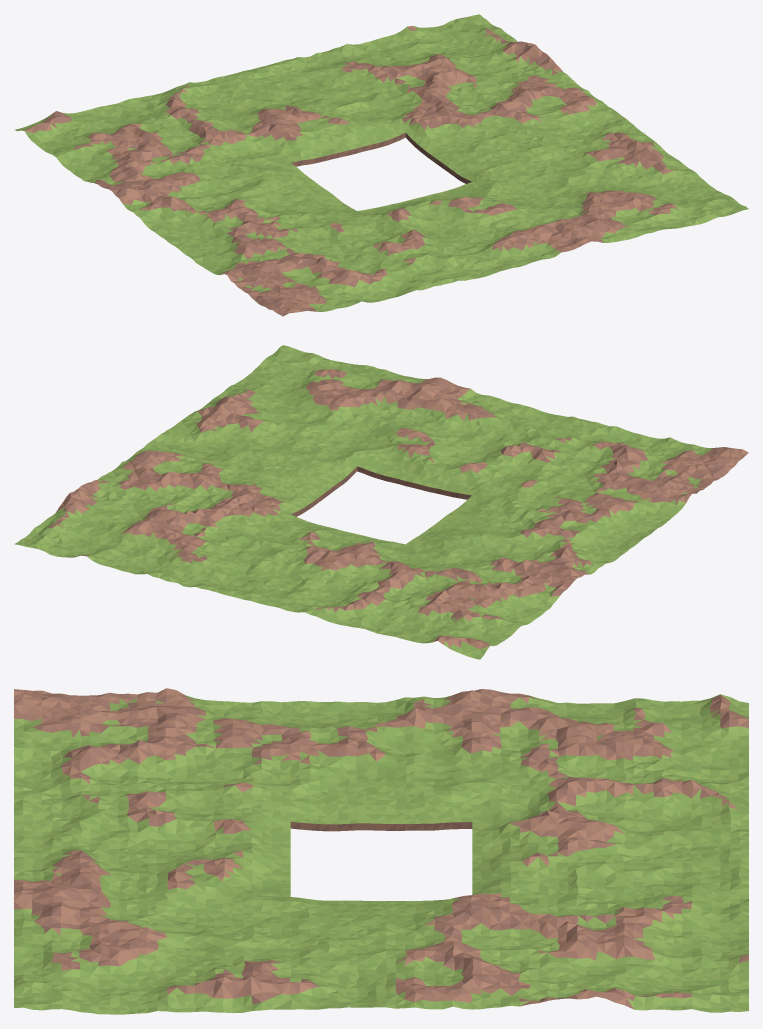
The model's file is SM_Terrain_Far.obj.
3 renders of one model, top to bottom at view 1: azimuth 30°, elevation 25°; view 2: azimuth 150°, elevation 25°; view 3: azimuth 270°, elevation 25°, orthographic. The views are drawn at different scales.
Parts seen in each view (by area): view 1: SM_Terrain_Far; view 2: SM_Terrain_Far; view 3: SM_Terrain_Far.
Boxes of the visible parts, box(x1,y1,x2,y2) form: SM_Terrain_Far: box(14, 14, 748, 316); SM_Terrain_Far: box(14, 345, 748, 659); SM_Terrain_Far: box(14, 688, 748, 1014).
Size of the model in its own units: 19250 by 935 by 19250.
1 material, 1 textured.
